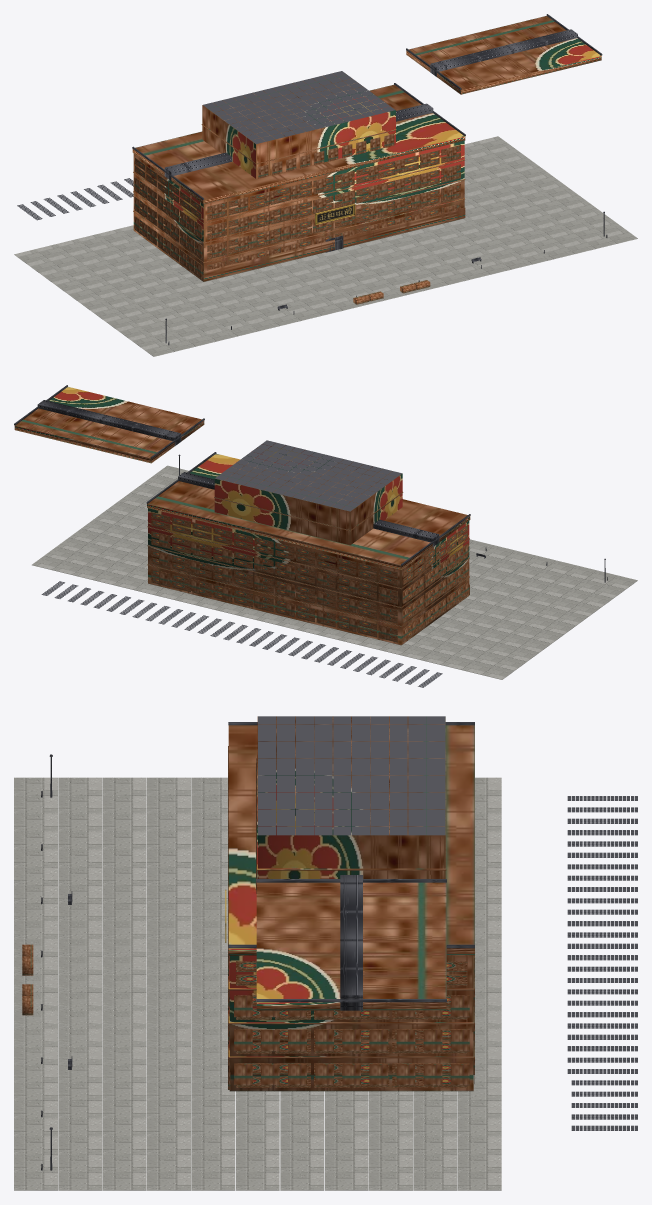
3 views of the same model, one above another, from view 1: azimuth 30°, elevation 25°; view 2: azimuth 150°, elevation 25°; view 3: azimuth 270°, elevation 25° (orthographic). The views are drawn at different scales.
Visible parts, largest first — view 1: 11140_02_04564_038_01__plinth_ground_base, 11140_02_04564_038_02__mass_body_facade, 11140_02_04564_038_03__roof_deck_structure, 11140_02_04564_038_05__window_sash_glass, 11140_02_04564_038_03__roof_metal_ornament, 11140_02_04564_038_06__landscape_greenery; view 2: 11140_02_04564_038_02__mass_body_facade, 11140_02_04564_038_01__plinth_ground_base, 11140_02_04564_038_03__roof_deck_structure, 11140_02_04564_038_03__roof_metal_ornament; view 3: 11140_02_04564_038_01__plinth_ground_base, 11140_02_04564_038_02__mass_body_facade, 11140_02_04564_038_03__roof_deck_structure, 11140_02_04564_038_03__roof_metal_ornament, 11140_02_04564_038_06__landscape_greenery.
Boxes of the visible parts, bbox=[...] form: 11140_02_04564_038_01__plinth_ground_base: bbox=[14, 136, 637, 356]; 11140_02_04564_038_02__mass_body_facade: bbox=[132, 16, 601, 281]; 11140_02_04564_038_03__roof_deck_structure: bbox=[17, 71, 395, 220]; 11140_02_04564_038_05__window_sash_glass: bbox=[212, 134, 456, 275]; 11140_02_04564_038_03__roof_metal_ornament: bbox=[132, 14, 602, 199]; 11140_02_04564_038_06__landscape_greenery: bbox=[353, 280, 430, 304]; 11140_02_04564_038_02__mass_body_facade: bbox=[14, 387, 470, 645]; 11140_02_04564_038_01__plinth_ground_base: bbox=[32, 465, 637, 679]; 11140_02_04564_038_03__roof_deck_structure: bbox=[41, 440, 442, 687]; 11140_02_04564_038_03__roof_metal_ornament: bbox=[14, 385, 470, 565]; 11140_02_04564_038_01__plinth_ground_base: bbox=[14, 777, 501, 1190]; 11140_02_04564_038_02__mass_body_facade: bbox=[228, 716, 474, 1091]; 11140_02_04564_038_03__roof_deck_structure: bbox=[258, 716, 637, 1130]; 11140_02_04564_038_03__roof_metal_ornament: bbox=[228, 722, 474, 1010]; 11140_02_04564_038_06__landscape_greenery: bbox=[22, 944, 33, 1015].
Size of the model in its own units: 111 by 26.3 by 66.47.
7 materials, 7 textured.
